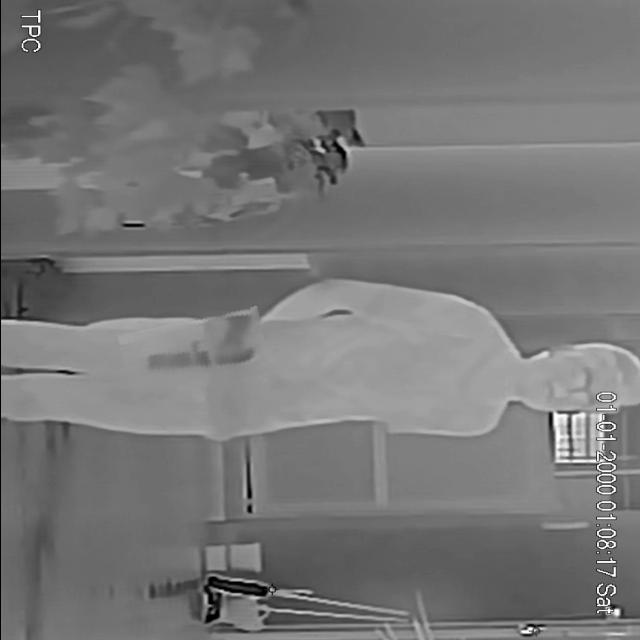Weapon: (120, 313, 268, 395)
